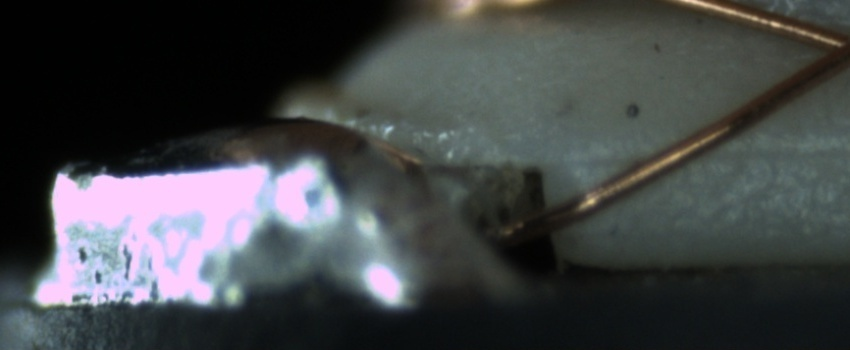CL: (799, 13, 850, 79)
DL: (572, 122, 846, 183)
